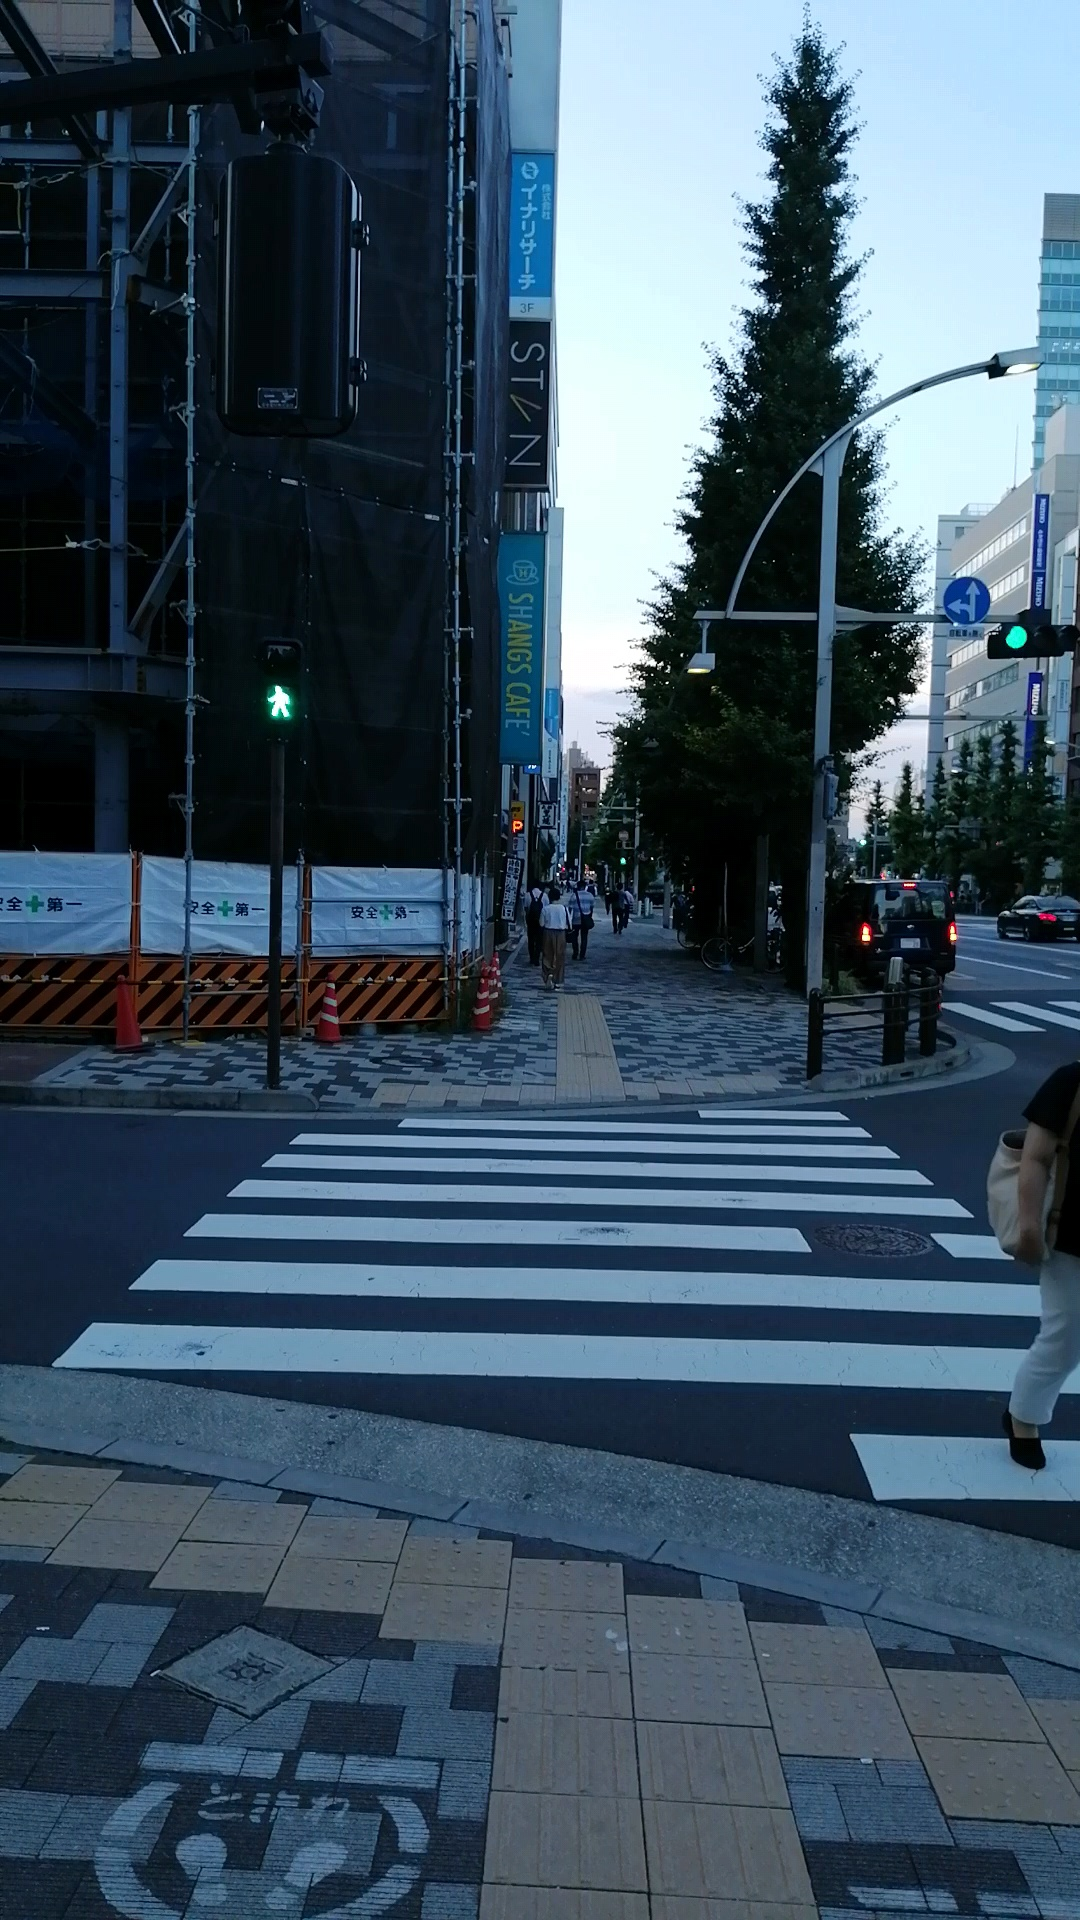green: (252, 638, 305, 735)
